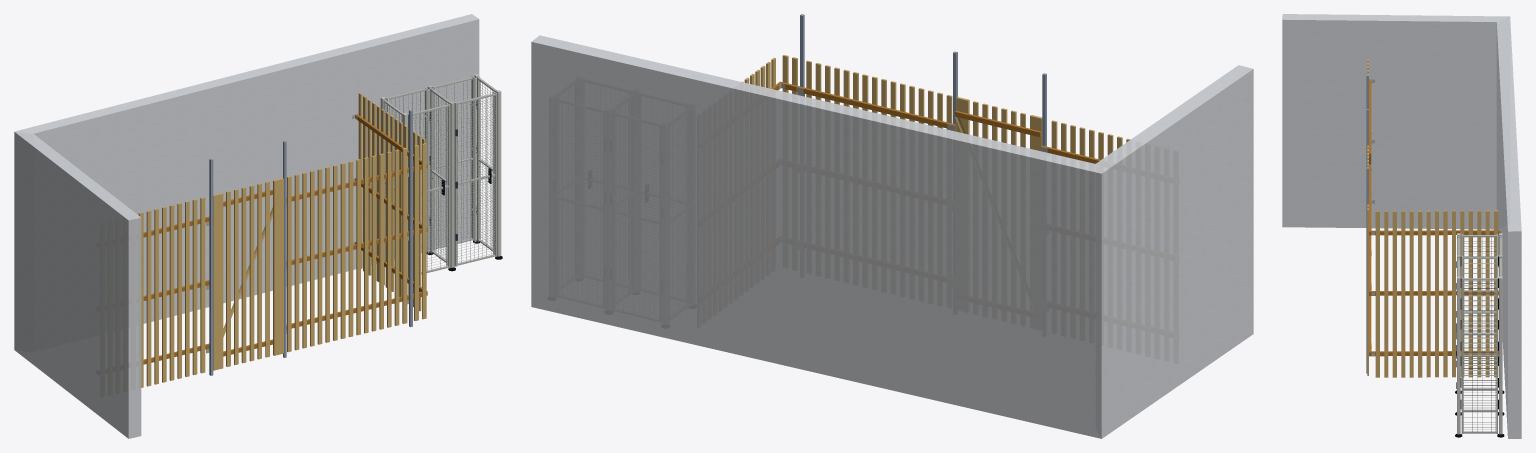
Rendered from ks-studio-2026-05-07-1304.glb.
3 views of the same model, side by side, from view 1: azimuth 30°, elevation 25°; view 2: azimuth 150°, elevation 25°; view 3: azimuth 270°, elevation 25° (orthographic). The views are drawn at different scales.
Parts seen in each view (by area): view 1: wall-core-mitered (×2), ks-studio-project-3d, vertical-slat-13 (×3), vertical-slat-8 (×3), vertical-slat-11 (×3), vertical-slat-6 (×3), right-side-stile, left-side-stile, vertical-slat-2 (×2), vertical-slat-7 (×2), vertical-slat-12 (×2), vertical-slat-14 (×2) (+21 smaller); view 2: wall-core-mitered (×2), ks-studio-project-3d, top-crosslat; view 3: wall-core-mitered (×2), post-3N (×2), vertical-slat-2 (×2), vertical-slat-9, vertical-slat-6, vertical-slat-7, vertical-slat-5, vertical-slat-1, vertical-slat-3, vertical-slat-4, vertical-slat-14, vertical-slat-12 (+11 smaller).
Part boxes in pixels (bbox=[...]): wall-core-mitered (×2): bbox=[14, 14, 479, 438]; ks-studio-project-3d: bbox=[209, 110, 412, 375]; vertical-slat-13 (×3): bbox=[192, 99, 383, 374]; vertical-slat-8 (×3): bbox=[154, 115, 393, 384]; vertical-slat-11 (×3): bbox=[177, 105, 380, 378]; vertical-slat-6 (×3): bbox=[138, 122, 402, 387]; right-side-stile: bbox=[273, 178, 283, 355]; left-side-stile: bbox=[213, 193, 223, 370]; vertical-slat-2 (×2): bbox=[294, 143, 426, 350]; vertical-slat-7 (×2): bbox=[146, 164, 337, 386]; vertical-slat-12 (×2): bbox=[185, 155, 376, 376]; vertical-slat-14 (×2): bbox=[200, 151, 391, 373]; wall-core-mitered (×2): bbox=[531, 35, 1253, 438]; ks-studio-project-3d: bbox=[800, 14, 1046, 146]; top-crosslat: bbox=[800, 86, 955, 129]; wall-core-mitered (×2): bbox=[1282, 14, 1521, 438]; post-3N (×2): bbox=[1457, 276, 1502, 434]; vertical-slat-2 (×2): bbox=[1367, 208, 1388, 377]; vertical-slat-9: bbox=[1443, 210, 1447, 377]; vertical-slat-6: bbox=[1418, 210, 1422, 377]; vertical-slat-7: bbox=[1426, 210, 1430, 377]; vertical-slat-5: bbox=[1409, 210, 1413, 377]; vertical-slat-1: bbox=[1375, 211, 1379, 377]; vertical-slat-3: bbox=[1392, 211, 1396, 377]; vertical-slat-4: bbox=[1401, 211, 1405, 377]; vertical-slat-14: bbox=[1485, 210, 1489, 377]; vertical-slat-12: bbox=[1468, 210, 1472, 377].
Size of the model in its own units: 5622 by 2500 by 2615.
21 materials, 1 textured.
